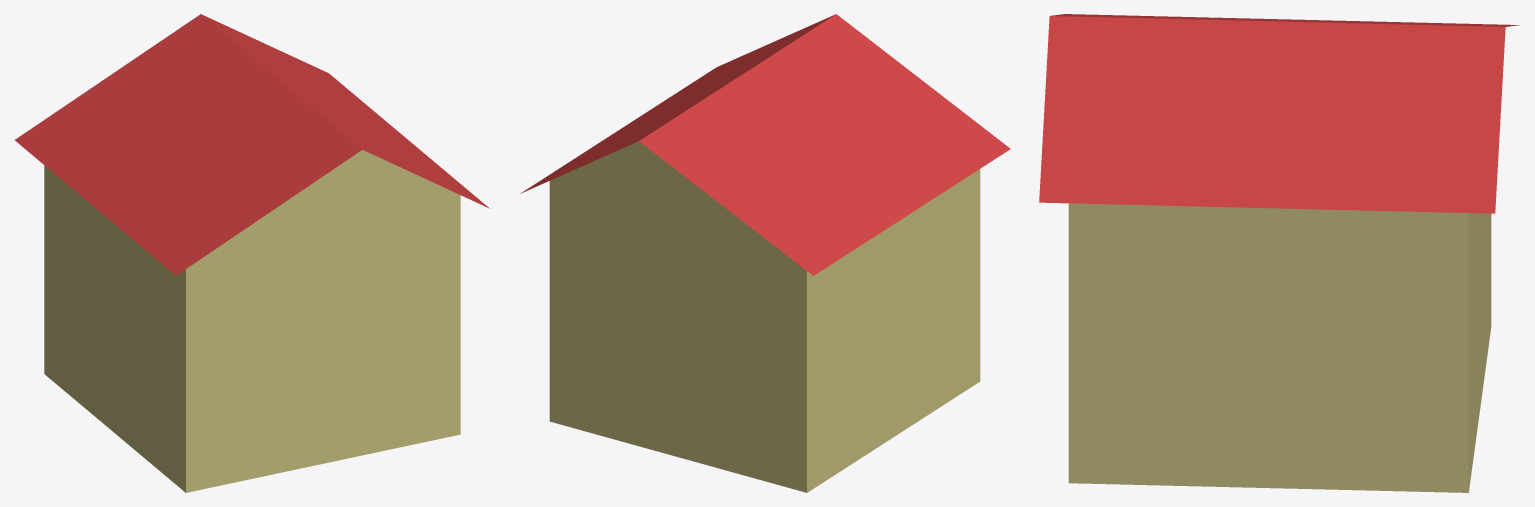
3 renders of one model, left to right at view 1: azimuth 30°, elevation 25°; view 2: azimuth 150°, elevation 25°; view 3: azimuth 270°, elevation 25°, orthographic. The views are drawn at different scales.
Bounding box in the file's own units: 8.41 × 8.57 × 7.89.
